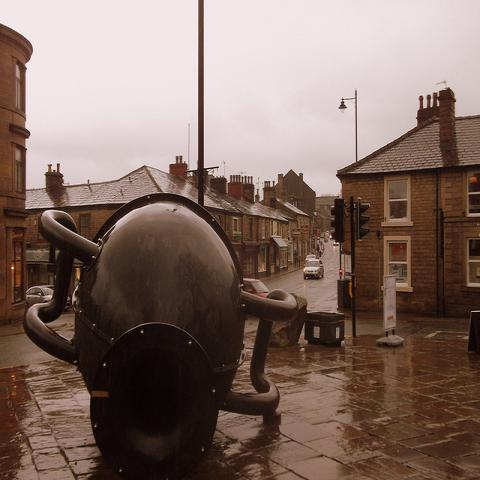car: (26, 286, 54, 308), (244, 277, 270, 298), (303, 258, 325, 280), (304, 253, 317, 266), (334, 239, 340, 246), (324, 237, 328, 242), (330, 232, 332, 240)
